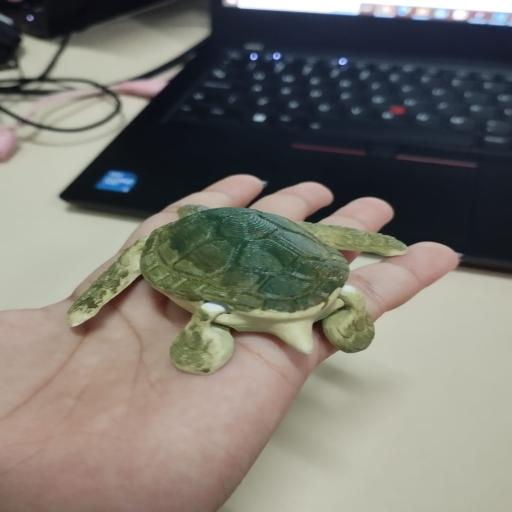Tugarin-modelo1: (68, 205, 407, 374)
